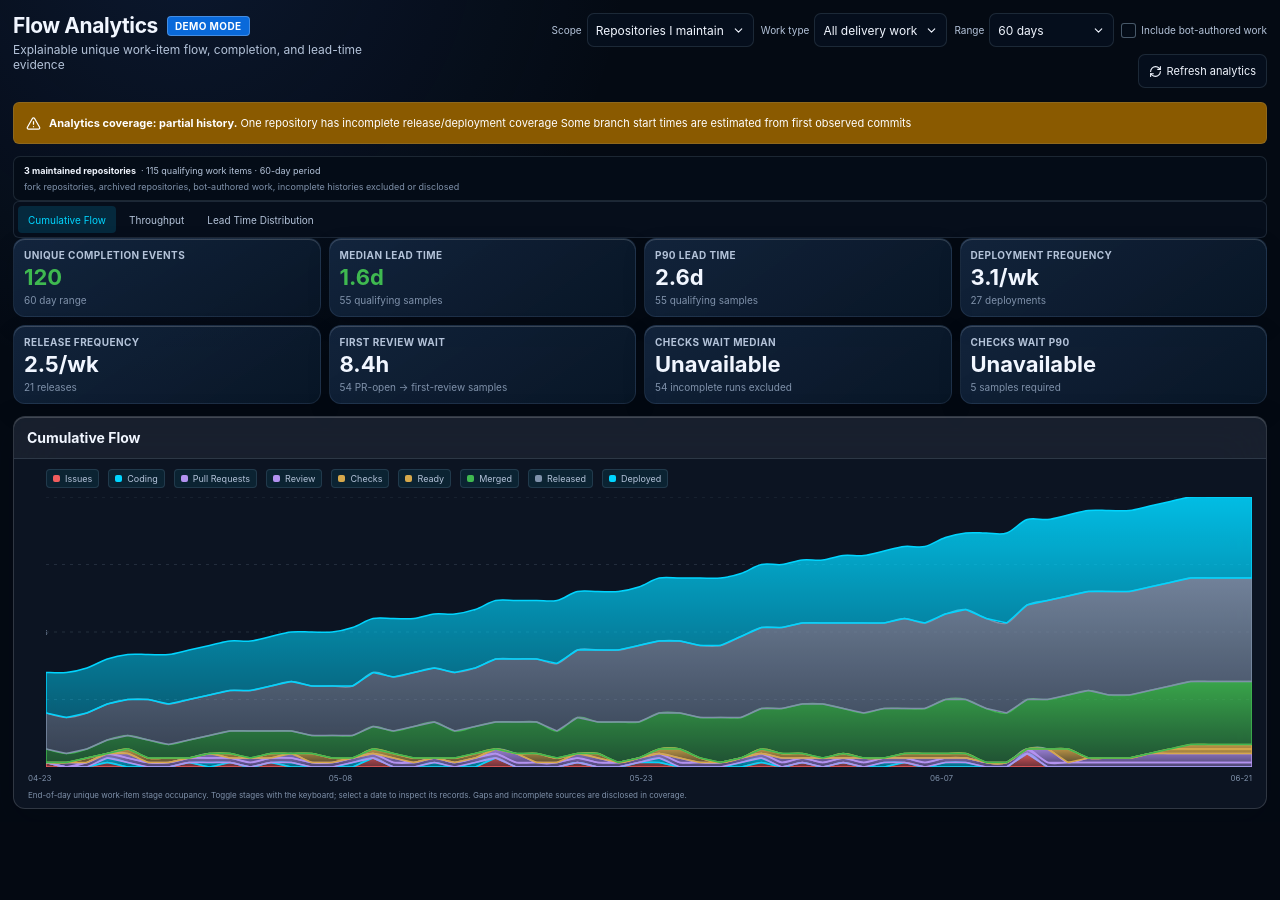
individual analytics pages in Demo Mode › switches among all historical analytics tabs
The width and height of the screenshot is (1280, 900).
Expected: the heading "Flow Analytics" is shown, x1=13 y1=13 x2=158 y2=38
What coordinates should you click on to do the following:
click the tab "Throughput"
I would click on:
 (157, 220)
Its box is x1=119 y1=206 x2=194 y2=233.
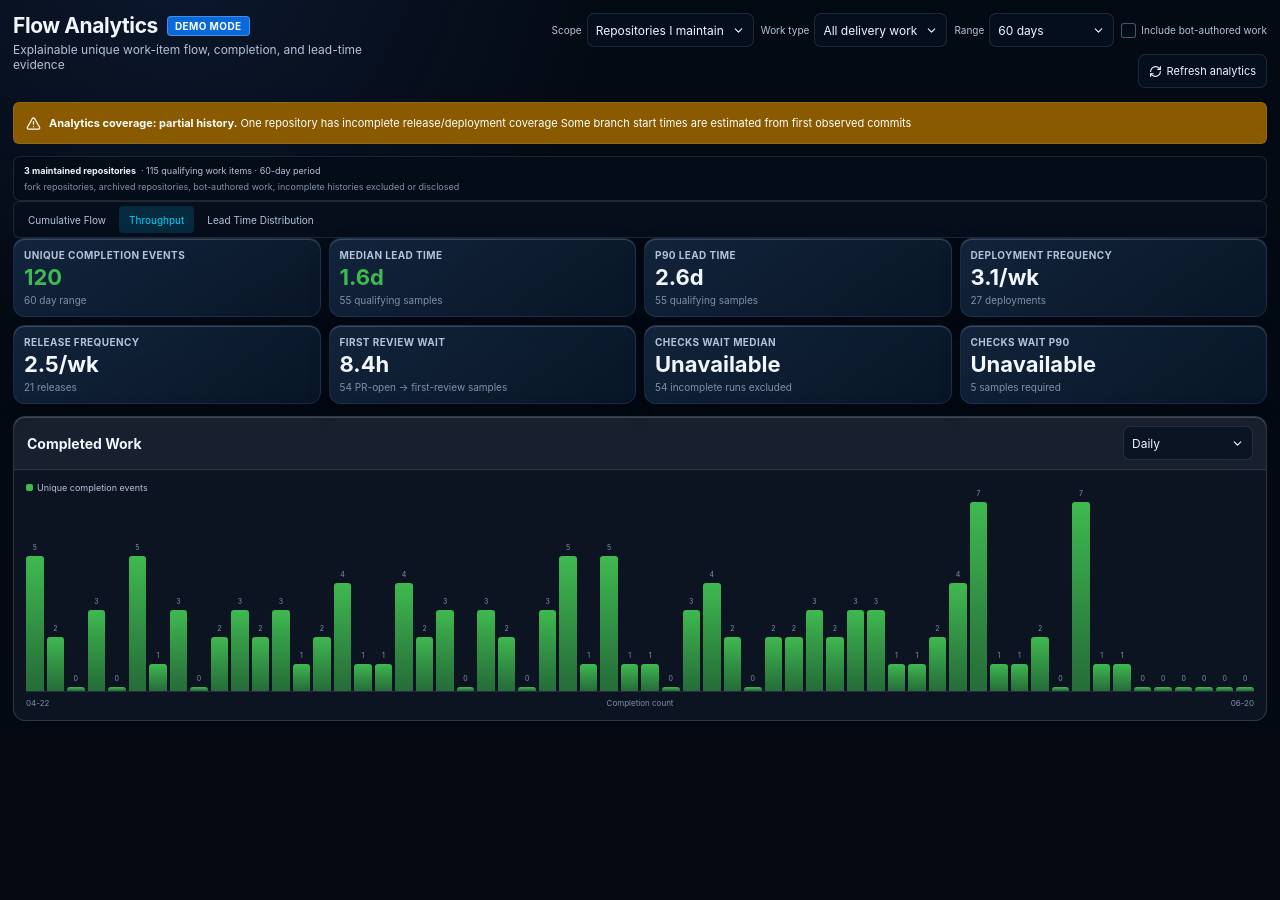
Now the picture named "Throughput over time" is shown, box x1=26 y1=502 x2=1254 y2=692
What coordinates should you click on to do the following:
click the tab "Lead Time Distribution"
I would click on:
 (261, 220)
Its box is x1=197 y1=206 x2=324 y2=233.
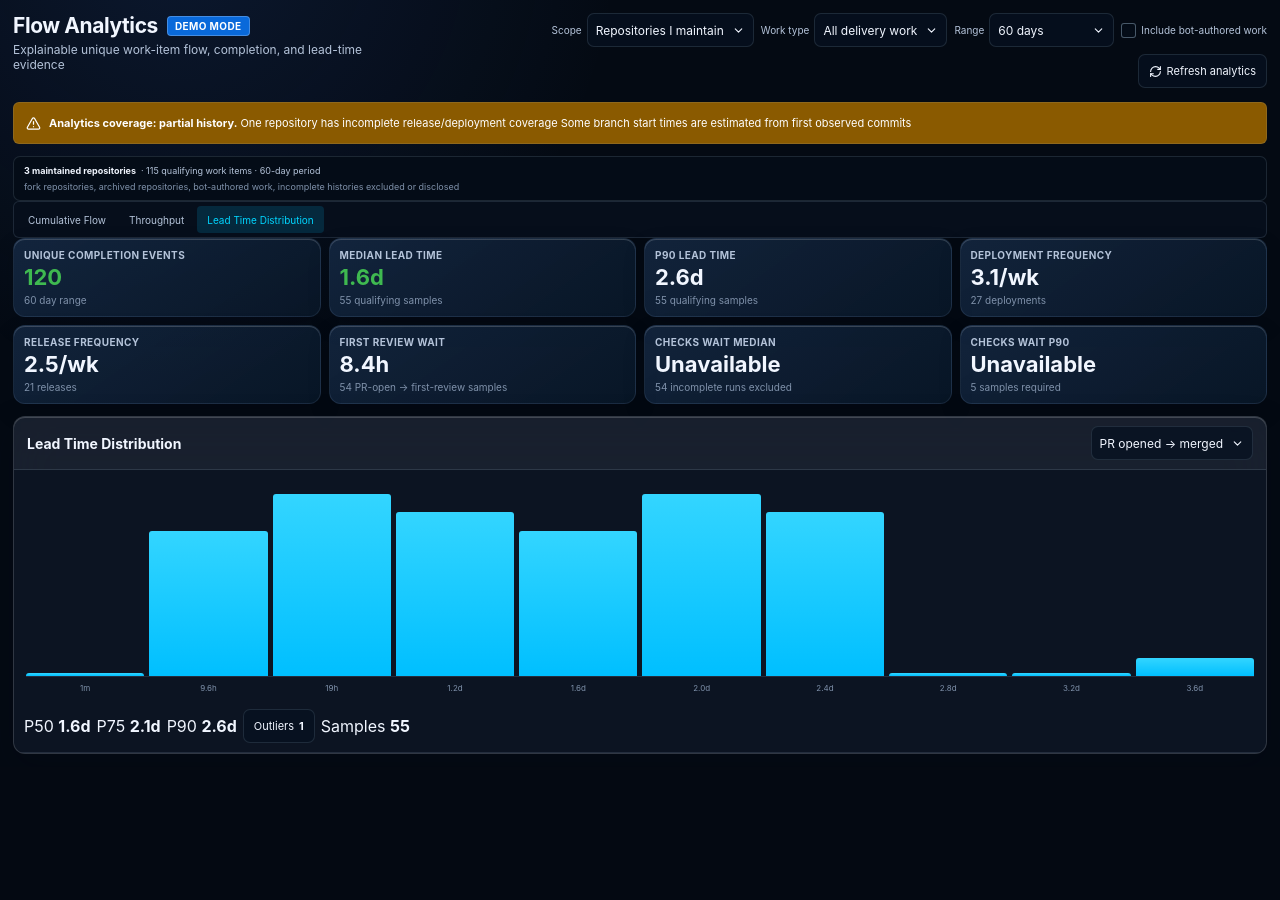
Now the element named "Lead time distribution" is shown, box x1=26 y1=482 x2=1254 y2=677
